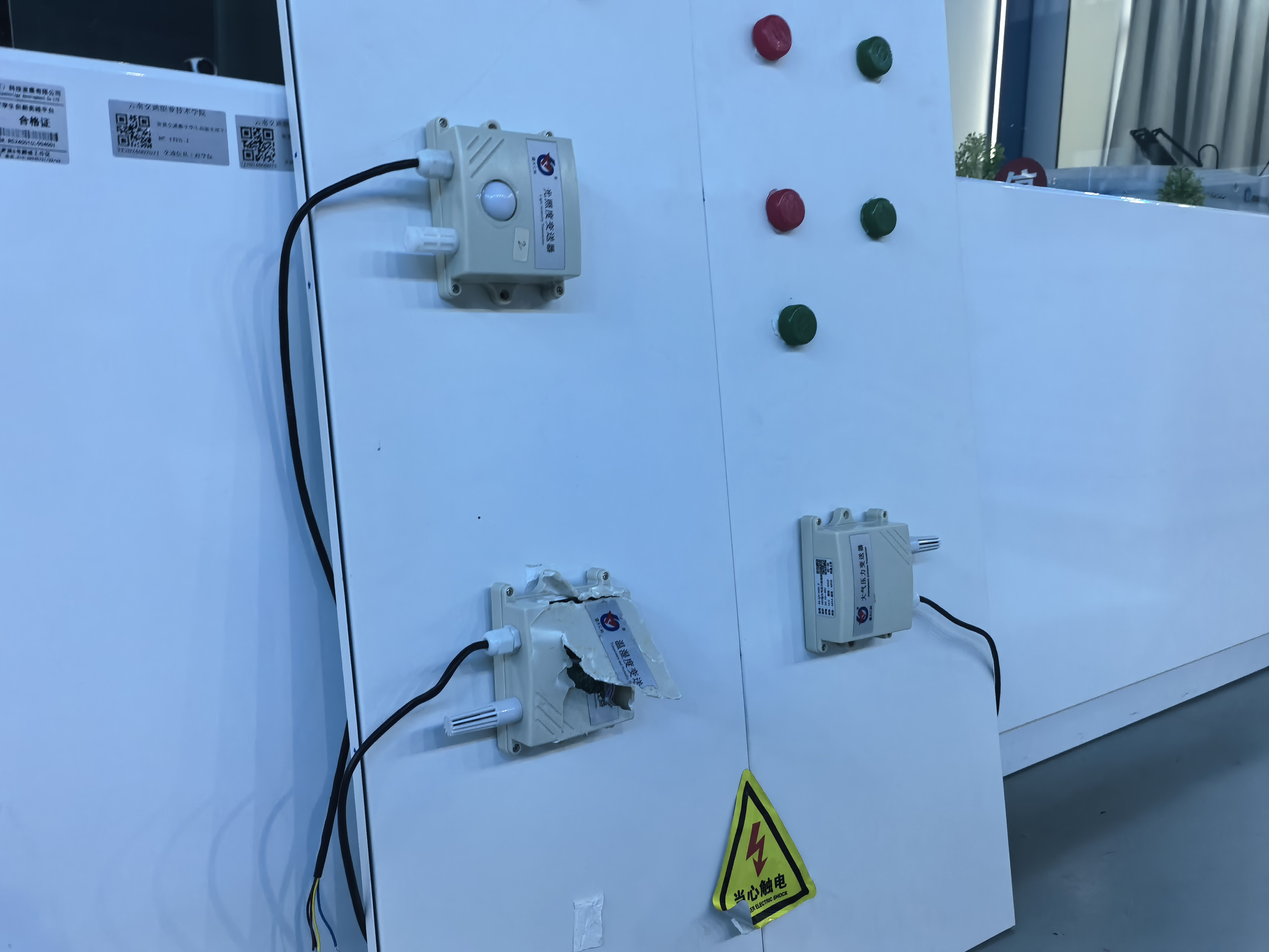red_warning: (735, 11, 807, 79), (752, 165, 815, 238)
sensor_damage: (429, 542, 698, 781)
